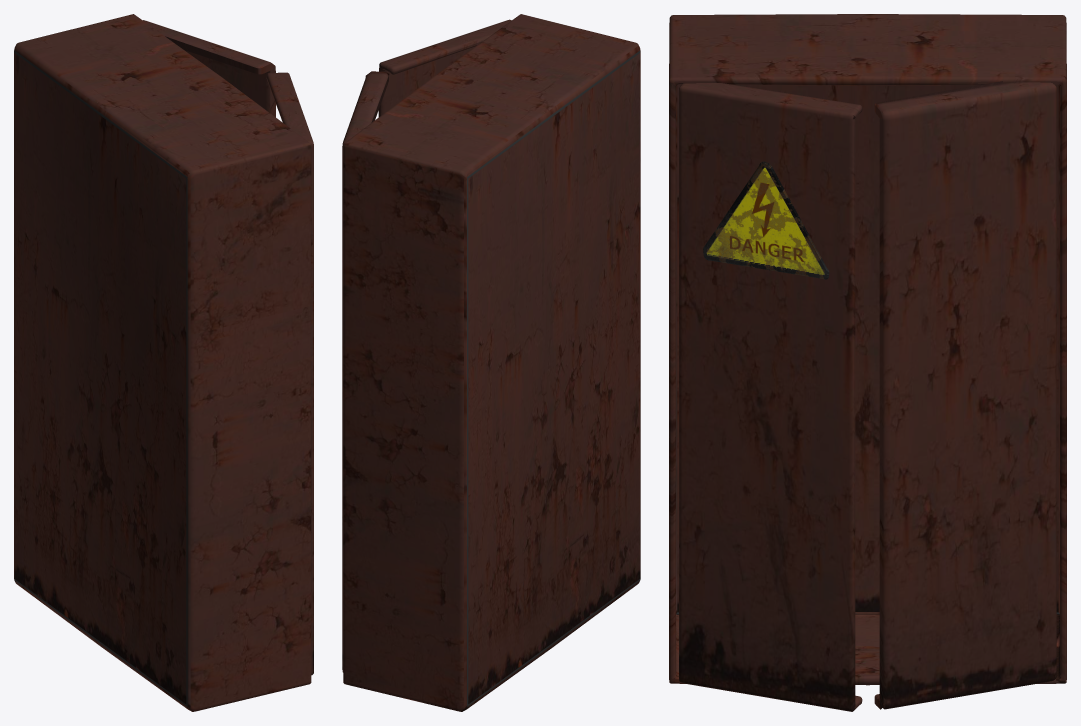
File: electronic-panel.fbx
3 views of the same model, side by side, from view 1: azimuth 30°, elevation 25°; view 2: azimuth 150°, elevation 25°; view 3: azimuth 270°, elevation 25° (orthographic). The views are drawn at different scales.
Visible parts, largest first — view 1: Cube, Cube.001, Cube.002; view 2: Cube, Cube.002, Cube.001; view 3: Cube.001, Cube.002, Cube.
Part boxes in pixels (left/top/right/bottom): Cube: left=14, top=14, right=311, bottom=711; Cube.001: left=143, top=20, right=275, bottom=117; Cube.002: left=266, top=72, right=313, bottom=675; Cube: left=343, top=14, right=640, bottom=711; Cube.002: left=378, top=19, right=511, bottom=117; Cube.001: left=342, top=71, right=389, bottom=672; Cube.001: left=874, top=81, right=1056, bottom=709; Cube.002: left=679, top=83, right=862, bottom=711; Cube: left=669, top=14, right=1066, bottom=685.
Bounding box in the file's own units: 121 × 343 × 204.
